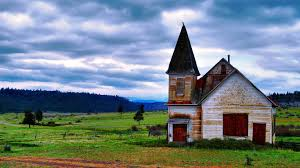field: (6, 115, 166, 165)
house: (170, 27, 275, 145)
sky: (2, 4, 296, 91)
